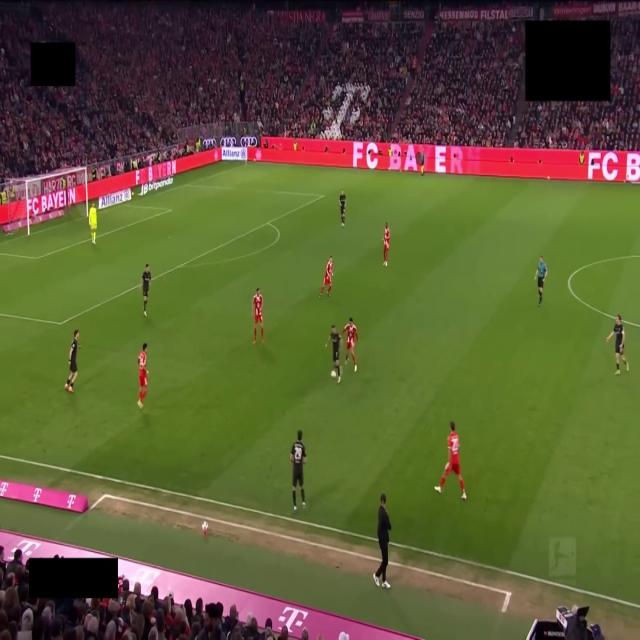ball: (331, 369, 337, 378)
player: (435, 421, 466, 500), (290, 431, 306, 513), (607, 315, 628, 375), (64, 330, 80, 393), (341, 318, 358, 371), (326, 325, 341, 383), (252, 288, 264, 343), (138, 343, 147, 408), (320, 256, 332, 297), (142, 264, 151, 316), (89, 203, 97, 244), (384, 223, 390, 267), (339, 191, 345, 227)
referee: (535, 256, 547, 306)
